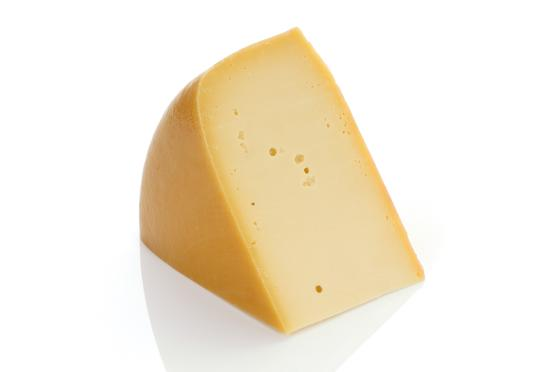cheese: (126, 25, 430, 338)
